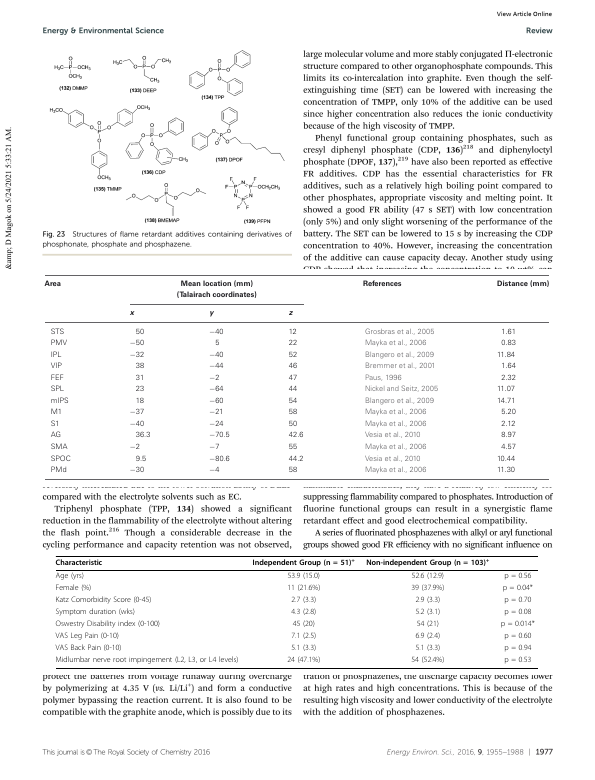borderless: (44, 274, 549, 479), (54, 555, 538, 668)
cell: (55, 656, 239, 665), (176, 280, 258, 300), (365, 557, 490, 568), (252, 557, 356, 568), (55, 620, 161, 630), (55, 596, 152, 606), (55, 608, 136, 618), (364, 385, 439, 394), (364, 363, 436, 372), (364, 328, 435, 337), (364, 351, 435, 360), (364, 397, 435, 406), (55, 644, 122, 653), (55, 632, 120, 641), (364, 420, 427, 429), (364, 443, 427, 452), (364, 466, 427, 475), (364, 432, 421, 441), (364, 455, 421, 464), (364, 340, 427, 348), (364, 409, 427, 417), (55, 559, 103, 568), (496, 280, 550, 288), (55, 584, 92, 594), (500, 620, 536, 630), (364, 374, 403, 383), (286, 572, 321, 582), (286, 584, 321, 594), (410, 584, 445, 594), (411, 572, 445, 582), (362, 280, 403, 288), (502, 584, 534, 594), (286, 656, 321, 665), (410, 656, 445, 665), (55, 572, 85, 582), (503, 572, 532, 582), (503, 596, 532, 606), (503, 608, 532, 618), (290, 596, 317, 606), (414, 596, 441, 606), (290, 608, 317, 618), (414, 608, 441, 618), (503, 632, 532, 641), (503, 644, 532, 653), (503, 656, 532, 665), (290, 632, 317, 641), (414, 632, 441, 641), (290, 644, 317, 653), (414, 644, 441, 653), (292, 620, 316, 630), (416, 620, 440, 630), (208, 432, 231, 441), (208, 455, 231, 464), (50, 455, 72, 464), (496, 351, 516, 360), (496, 385, 516, 394), (50, 397, 70, 406), (496, 397, 516, 406), (496, 455, 516, 464), (496, 466, 516, 475), (50, 443, 68, 452), (50, 466, 68, 475), (208, 328, 225, 337), (500, 328, 517, 337), (208, 351, 225, 360), (208, 363, 225, 372), (500, 363, 517, 372), (500, 374, 517, 383), (208, 385, 225, 394), (208, 397, 225, 406), (208, 409, 225, 418), (208, 420, 225, 429), (500, 432, 517, 441), (500, 443, 517, 452), (43, 280, 62, 288), (50, 340, 68, 348), (129, 351, 145, 360), (129, 409, 145, 418), (129, 420, 145, 429), (500, 420, 516, 429), (135, 432, 151, 441), (288, 432, 304, 441), (288, 455, 304, 464), (129, 466, 145, 475), (500, 340, 517, 348), (500, 409, 517, 417), (50, 328, 65, 337), (50, 374, 65, 383), (50, 385, 65, 394), (129, 340, 145, 348), (50, 351, 63, 360), (50, 363, 63, 372), (50, 409, 63, 418), (208, 374, 220, 383), (50, 432, 62, 441), (129, 443, 141, 452), (208, 443, 220, 452), (135, 455, 147, 464), (208, 466, 220, 475), (135, 328, 145, 337), (288, 328, 298, 337), (288, 351, 298, 360), (135, 363, 145, 372), (288, 363, 298, 372), (135, 374, 145, 383), (288, 374, 298, 383), (135, 385, 145, 394), (288, 385, 298, 394), (135, 397, 145, 406), (288, 397, 298, 406), (288, 409, 298, 418), (50, 420, 60, 429), (288, 420, 298, 429), (288, 443, 298, 452), (288, 466, 298, 475), (288, 340, 298, 348), (214, 340, 220, 348), (129, 311, 135, 318), (208, 311, 214, 318), (288, 311, 293, 318)
